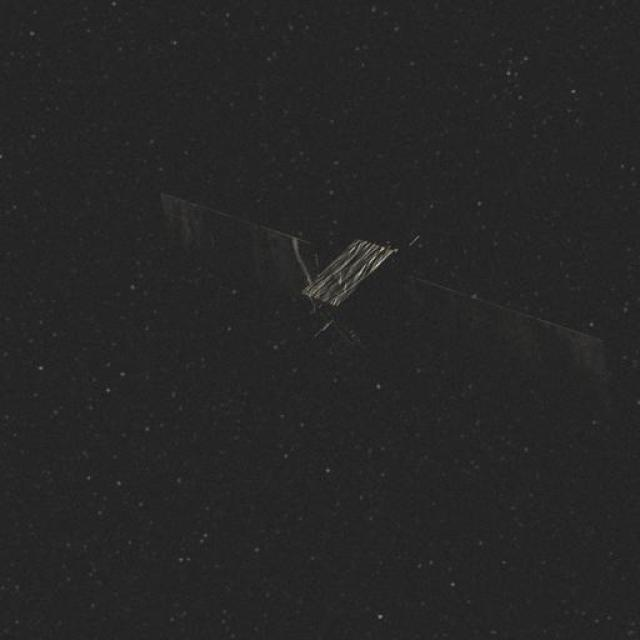smart_1: (155, 196, 598, 382)
